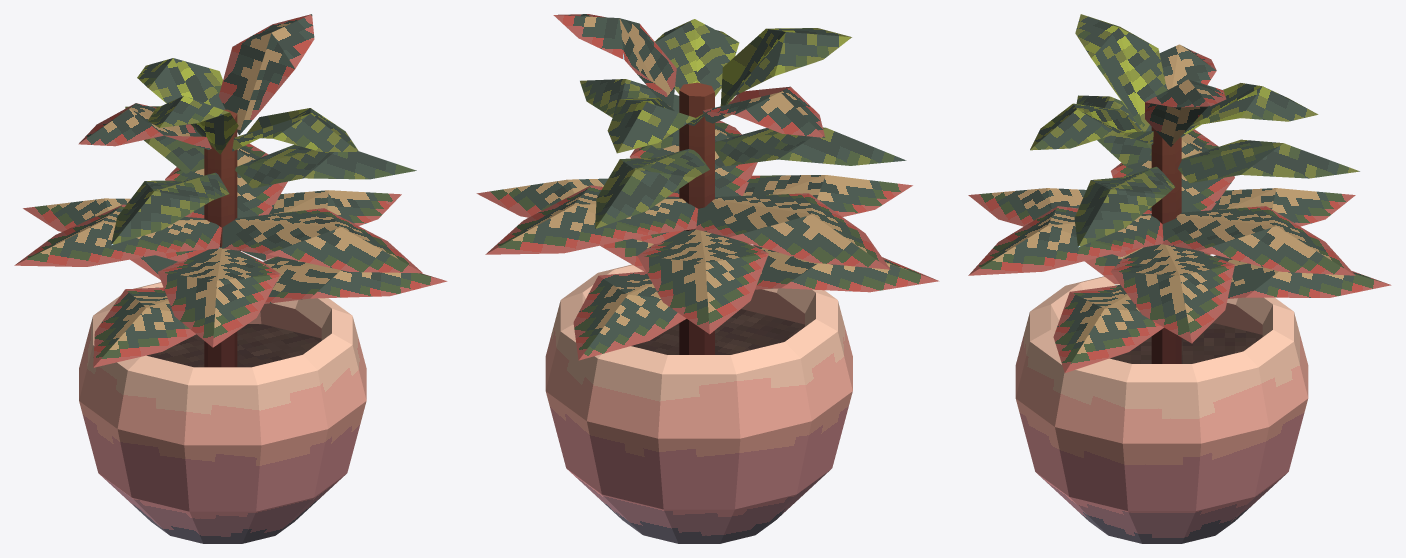
Rendered from croton.gltf.
3 views of the same model, side by side, from view 1: azimuth 30°, elevation 25°; view 2: azimuth 150°, elevation 25°; view 3: azimuth 270°, elevation 25° (orthographic). The views are drawn at different scales.
Parts seen in each view (by area): view 1: croton; view 2: croton; view 3: croton.
Part boxes in pixels (<box>): croton: <box>14,14,447,543</box>; croton: <box>476,14,939,543</box>; croton: <box>968,14,1391,543</box>.
Bounding box in the file's own units: 1.36 × 1.53 × 1.27.
1 material, 1 textured.
